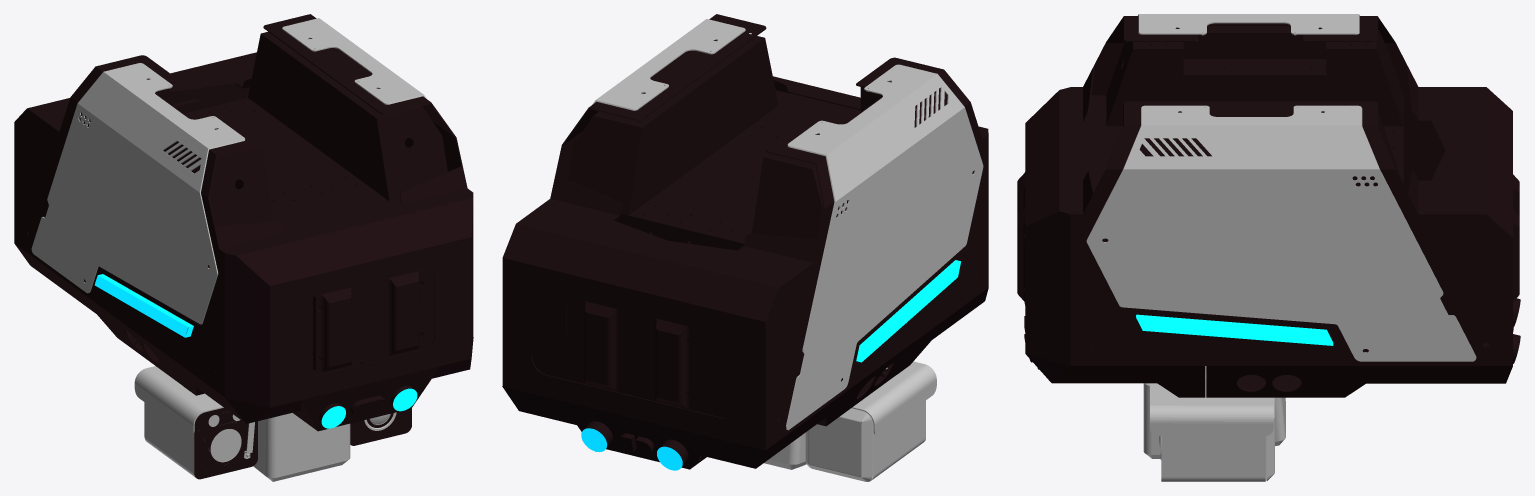
3 views of the same model, side by side, from view 1: azimuth 30°, elevation 25°; view 2: azimuth 150°, elevation 25°; view 3: azimuth 270°, elevation 25° (orthographic). The views are drawn at different scales.
Parts seen in each view (by area): view 1: 挂轨机器人22; view 2: 挂轨机器人22; view 3: 挂轨机器人22.
Part boxes in pixels (x1,y1,x2,y2): 挂轨机器人22: [14, 14, 473, 481]; 挂轨机器人22: [502, 14, 988, 481]; 挂轨机器人22: [1017, 14, 1520, 481].
Bounding box in the file's own units: 24.73 × 32.39 × 39.58.
